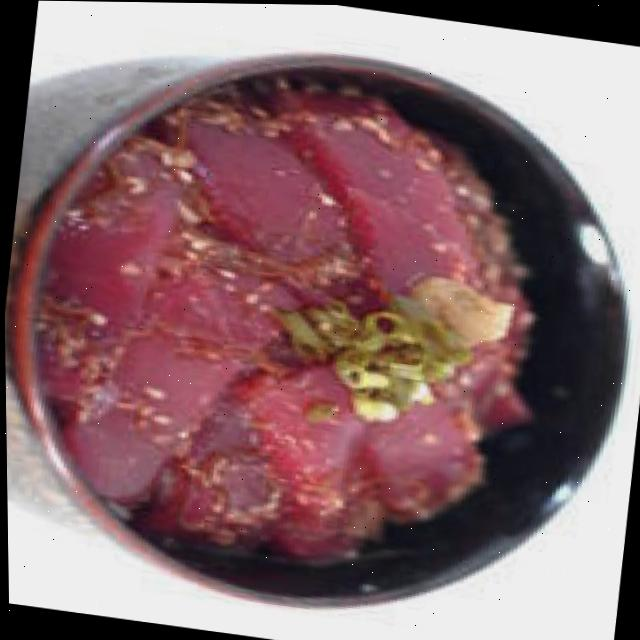刺身生食: (0, 11, 640, 640)
